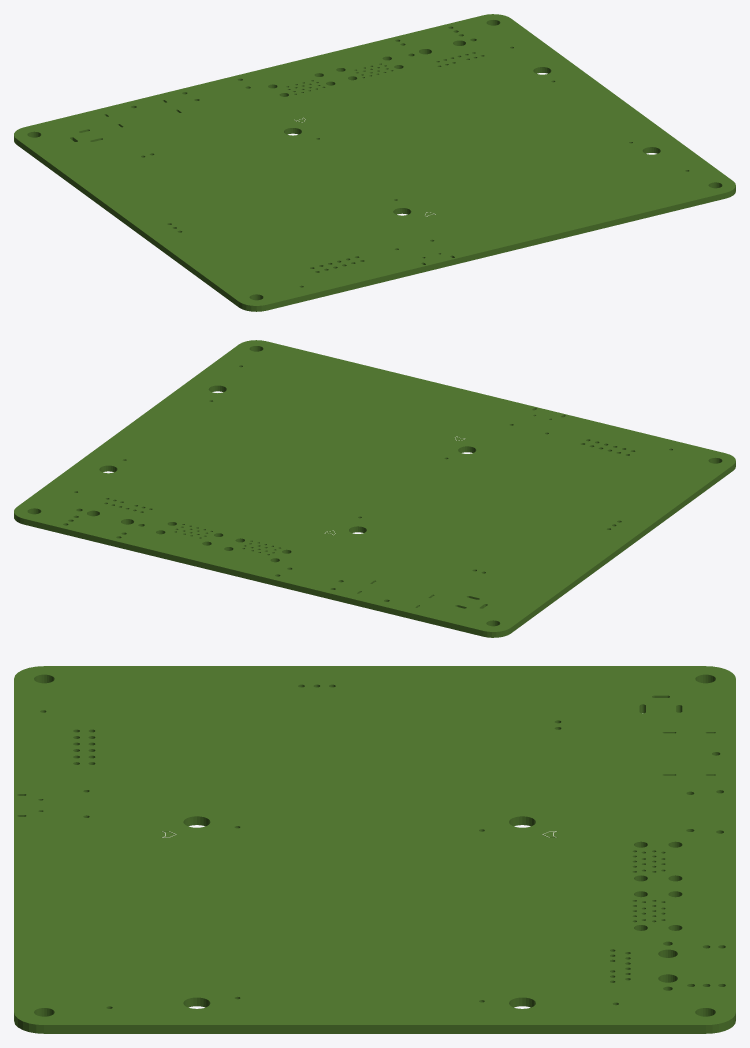
The model's file is kria_kv_260_CARRIER_BOARD_OUTLINE_CARRIER_BOARD_OUTLINE.obj.
3 renders of one model, top to bottom at view 1: azimuth 30°, elevation 25°; view 2: azimuth 150°, elevation 25°; view 3: azimuth 270°, elevation 25°, orthographic. The views are drawn at different scales.
Bounding box in the file's own units: 0.14 × 0.00163 × 0.119.
